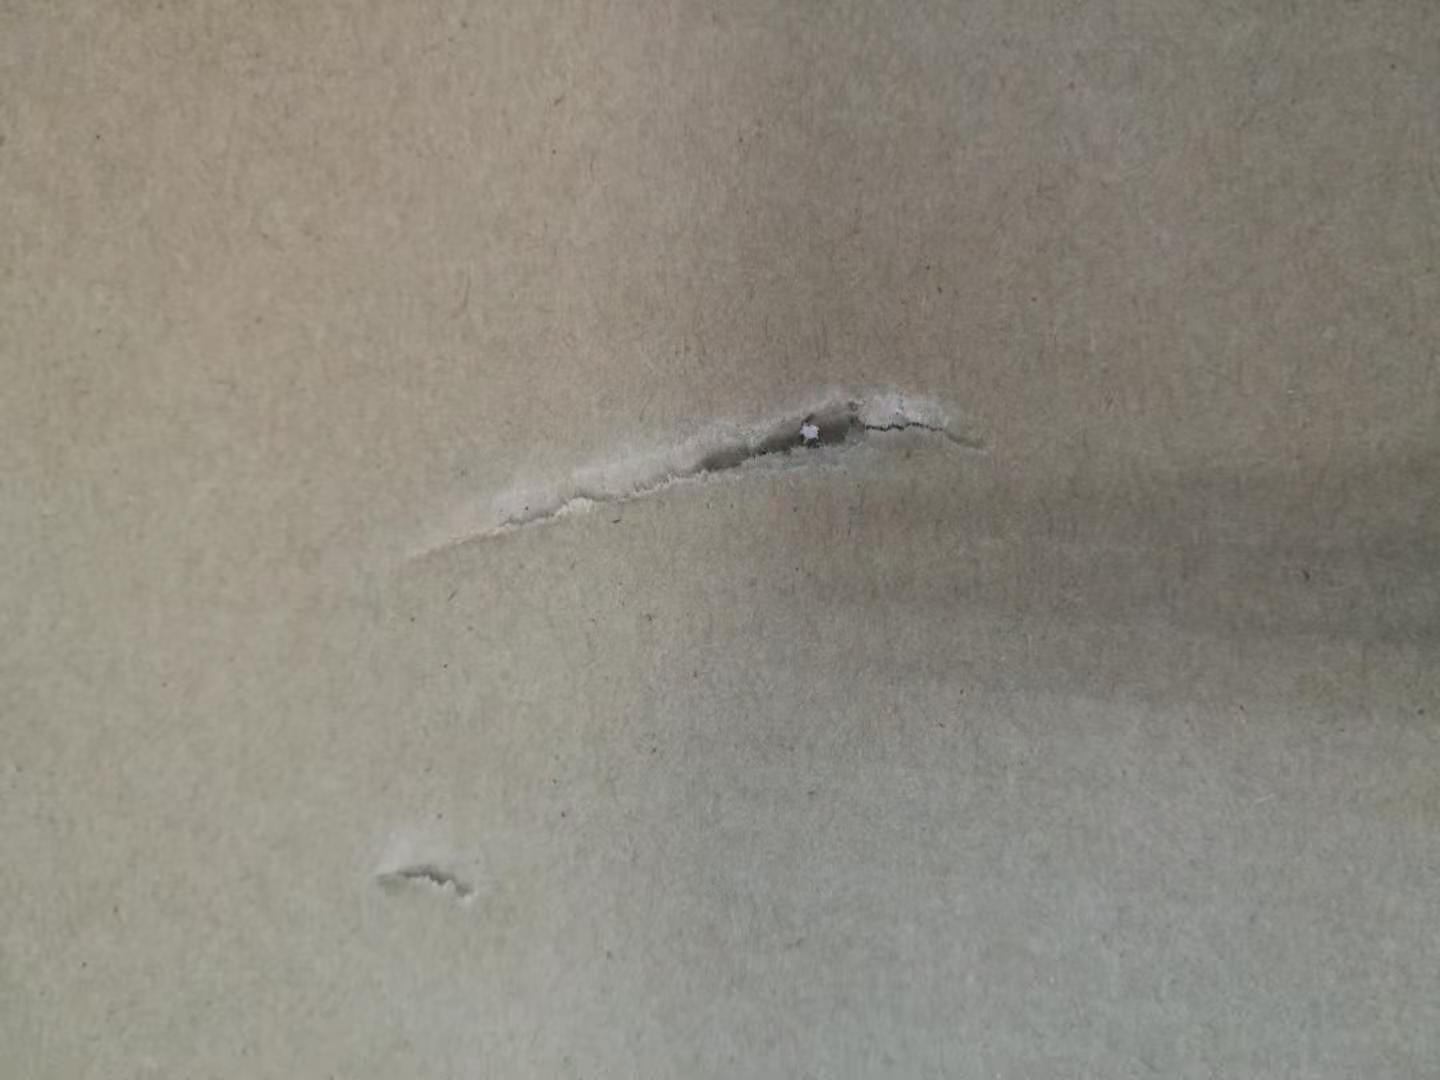defect: (350, 340, 1025, 582), (359, 818, 495, 926)
